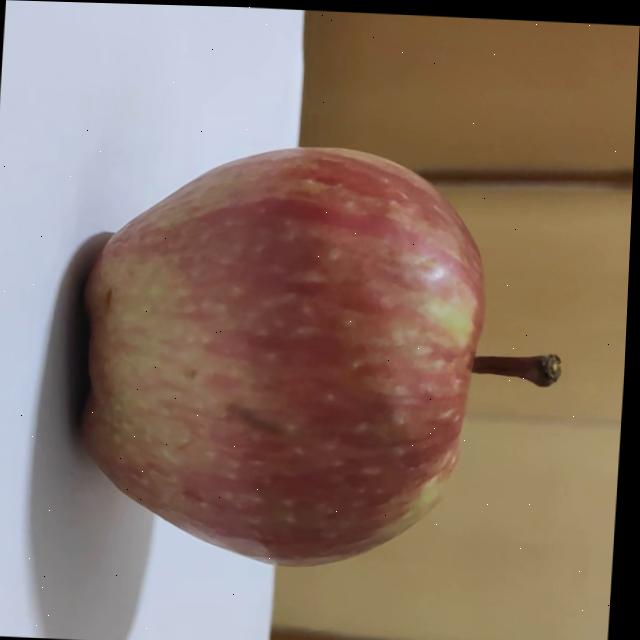Wet: (67, 132, 581, 578)
